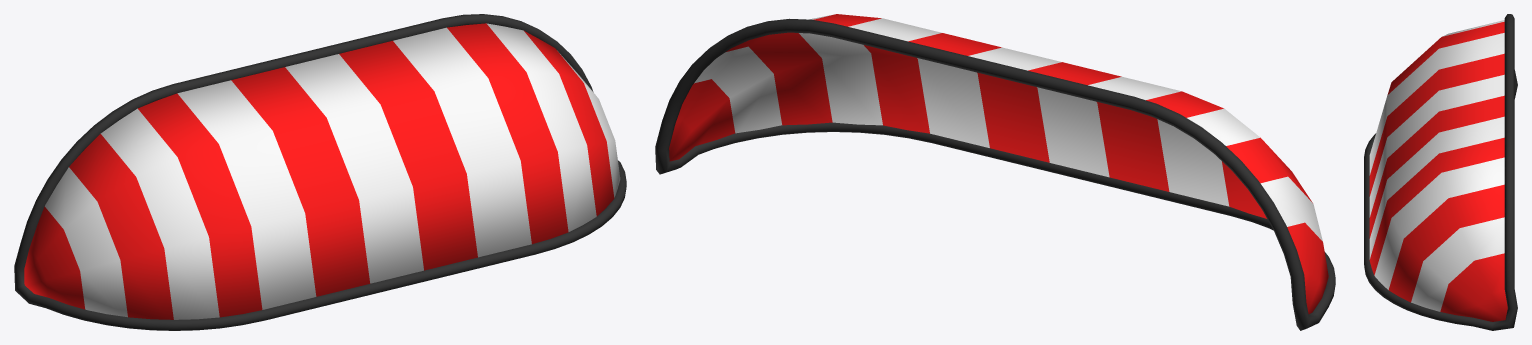
Rendered from Tenda2.FBX.
The picture shows the model from 3 angles, left to right: view 1: azimuth 30°, elevation 25°; view 2: azimuth 150°, elevation 25°; view 3: azimuth 270°, elevation 25°; orthographic projection. The views are drawn at different scales.
Parts seen in each view (by area): view 1: Tenda2; view 2: Tenda2; view 3: Tenda2.
Part boxes in pixels (box(x1,y1,x2,y2)): Tenda2: box(14, 14, 626, 330); Tenda2: box(655, 14, 1335, 330); Tenda2: box(1364, 14, 1517, 330).
Bounding box in the file's own units: 163 × 46.47 × 46.47.
